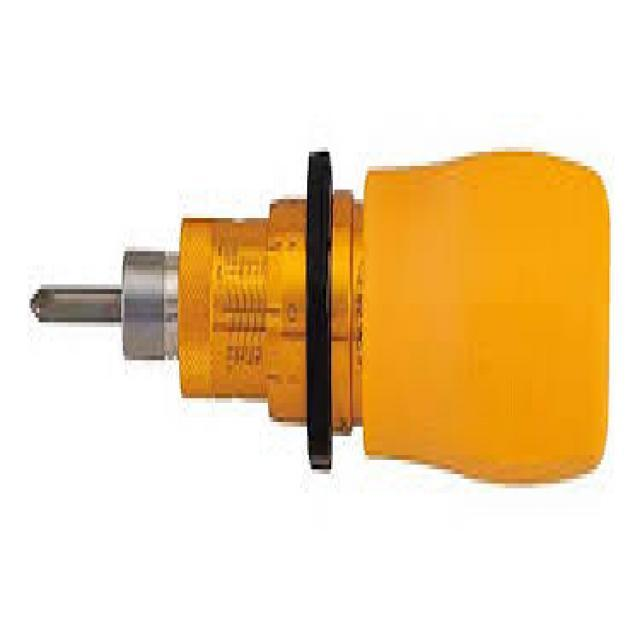drill: (12, 121, 620, 535)
